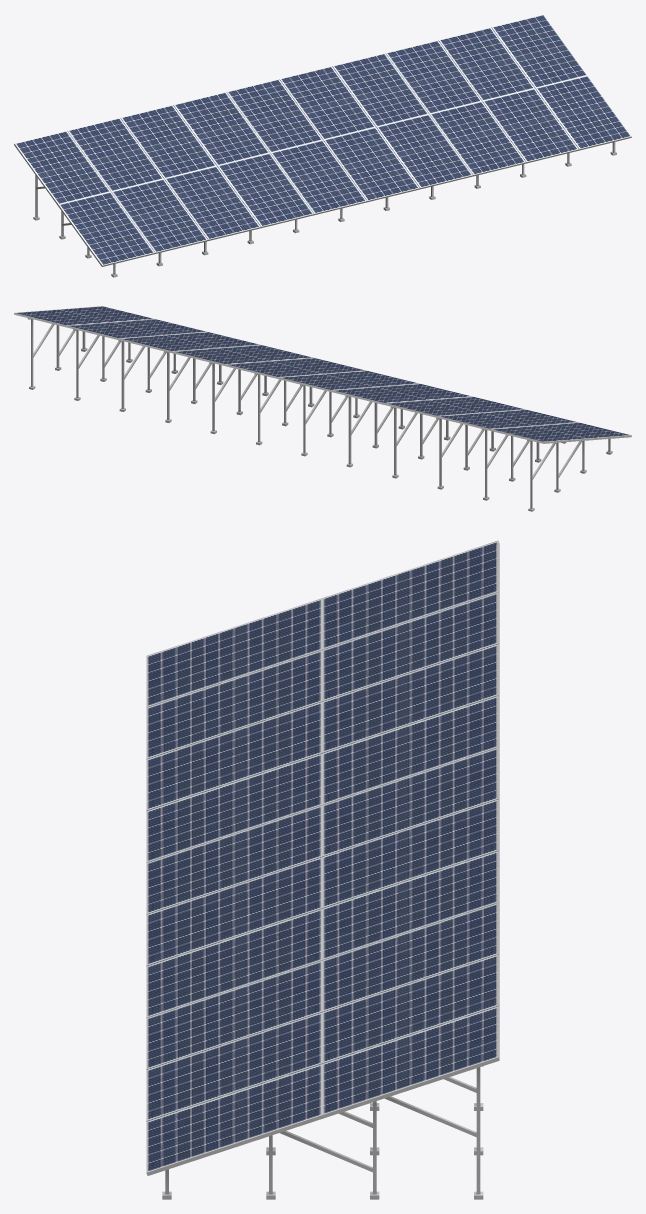
Rendered from Sunlight.gltf.
The picture shows the model from 3 angles, top to bottom: view 1: azimuth 30°, elevation 25°; view 2: azimuth 150°, elevation 25°; view 3: azimuth 270°, elevation 25°; orthographic projection. The views are drawn at different scales.
Visible parts, largest first — view 1: commonSunlight; view 2: commonSunlight; view 3: commonSunlight.
Part boxes in pixels (left/top/right/bottom): commonSunlight: left=14, top=14, right=631, bottom=277; commonSunlight: left=14, top=306, right=631, bottom=511; commonSunlight: left=146, top=540, right=499, bottom=1199.
Bounding box in the file's own units: 330 × 45.44 × 95.26.
1 material, 1 textured.
